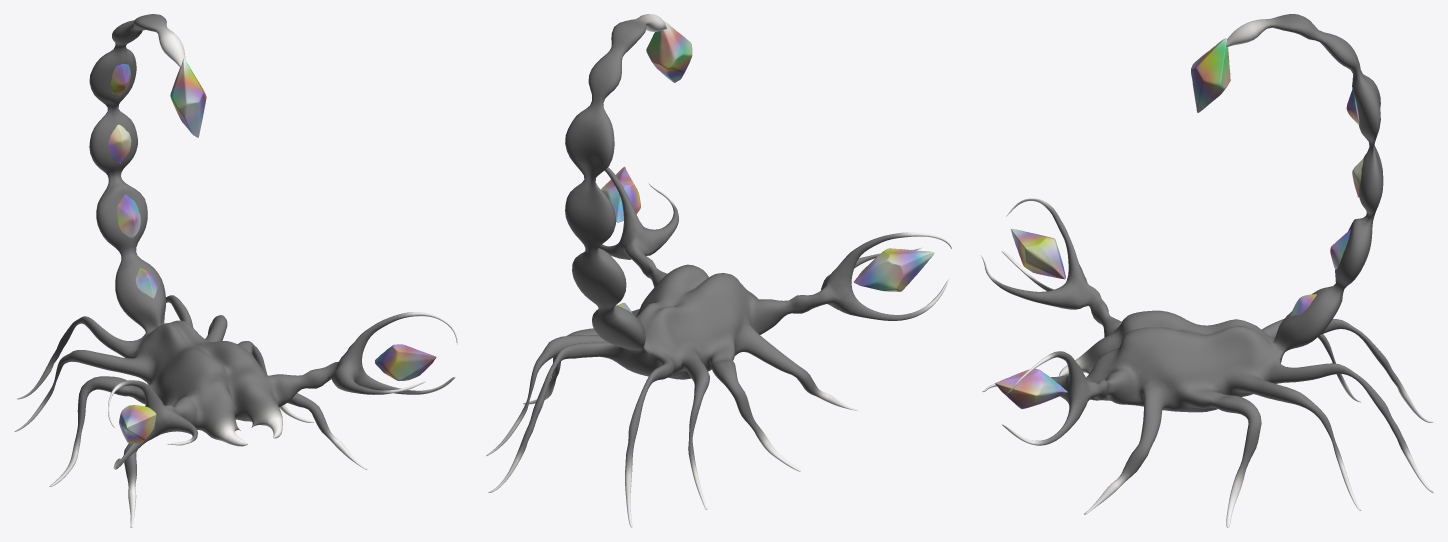
Rendered from WisdomFloat.fbx.
3 views of the same model, side by side, from view 1: azimuth 30°, elevation 25°; view 2: azimuth 150°, elevation 25°; view 3: azimuth 270°, elevation 25° (orthographic). The views are drawn at different scales.
Visible parts, largest first — view 1: Wisdom; view 2: Wisdom; view 3: Wisdom.
Boxes of the visible parts, bbox=[...] form: Wisdom: bbox=[14, 14, 457, 527]; Wisdom: bbox=[486, 14, 951, 527]; Wisdom: bbox=[980, 14, 1433, 527].
Bounding box in the file's own units: 199 × 227 × 212.
Materials: 2 (2 with a texture image).
